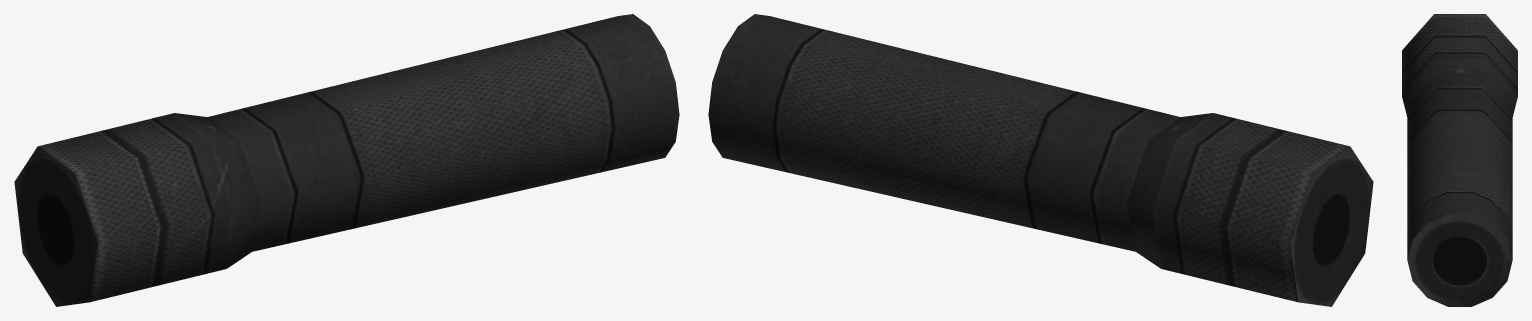
Rendered from t6_attach_ar_silencer4_world_LOD0.obj.
3 renders of one model, left to right at view 1: azimuth 30°, elevation 25°; view 2: azimuth 150°, elevation 25°; view 3: azimuth 270°, elevation 25°, orthographic. The views are drawn at different scales.
Visible parts, largest first — view 1: mtl_t6_attach_rus_silencer; view 2: mtl_t6_attach_rus_silencer; view 3: mtl_t6_attach_rus_silencer.
Boxes of the visible parts, x1,y1,x2,y2 form: mtl_t6_attach_rus_silencer: (14,14,679,306); mtl_t6_attach_rus_silencer: (708,14,1373,306); mtl_t6_attach_rus_silencer: (1402,14,1517,306).
Size of the model in its own units: 19.67 by 4.72 by 4.86.
